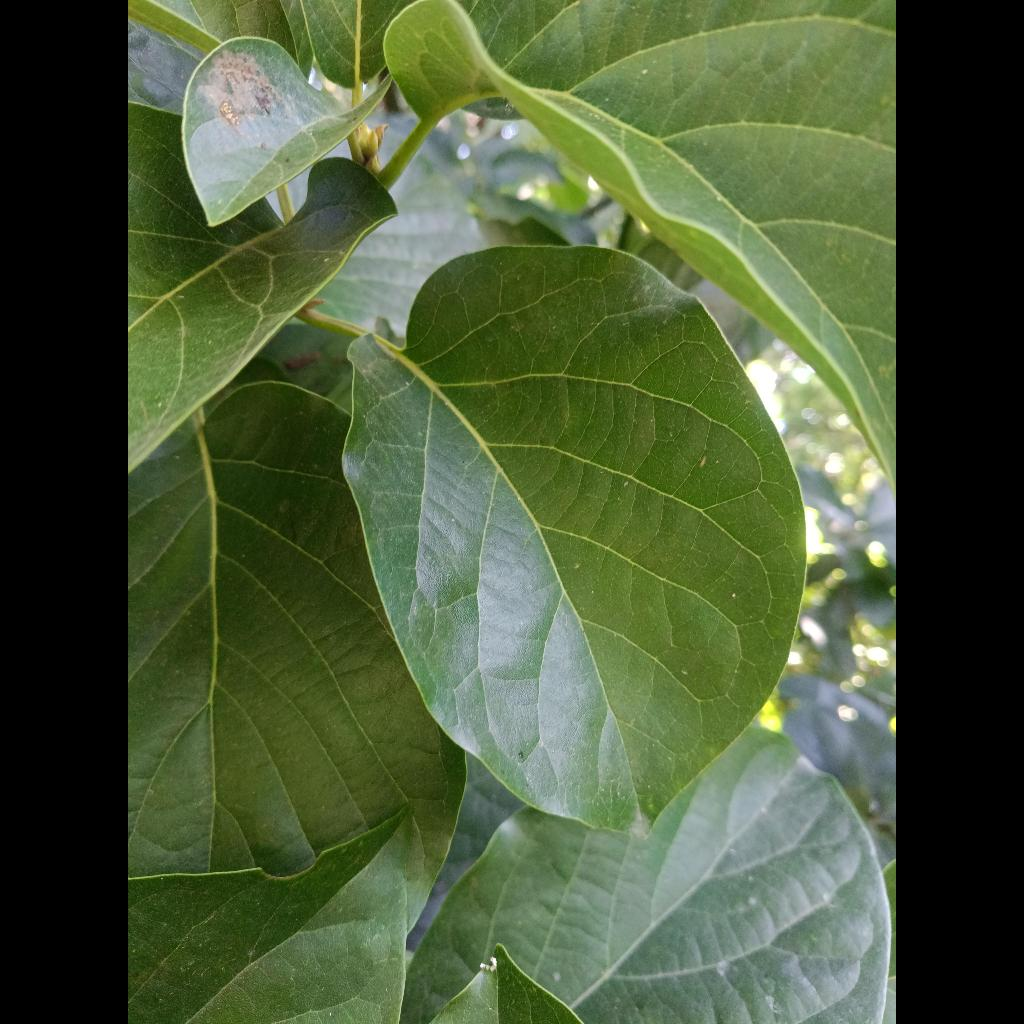Healthy: (345, 246, 804, 830)
